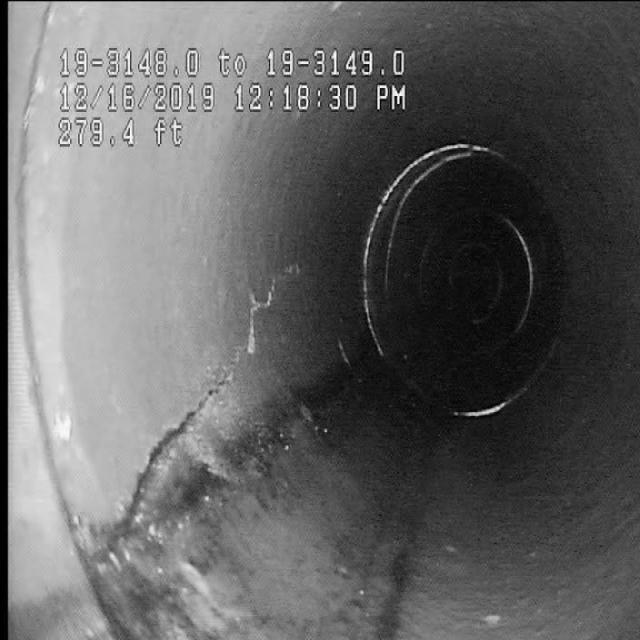Fracture: (134, 263, 290, 521)
